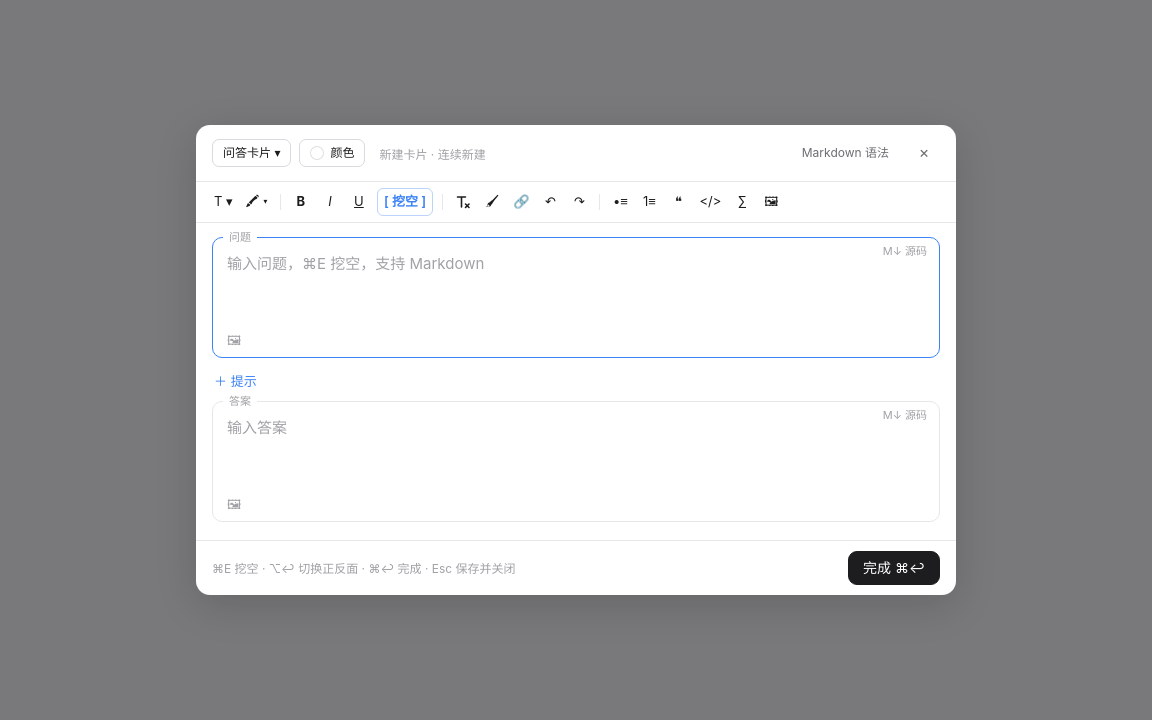
Test case: 卡片编辑器 › 连续新建：填完点完成后弹窗不关，继续下一张
Expected: the text "问题" is shown, top-left (223, 229), bottom-right (257, 246)
Step 1. Click the 1st button "M↓ 源码" → (905, 252), box top-left (877, 242), bottom-right (933, 261)
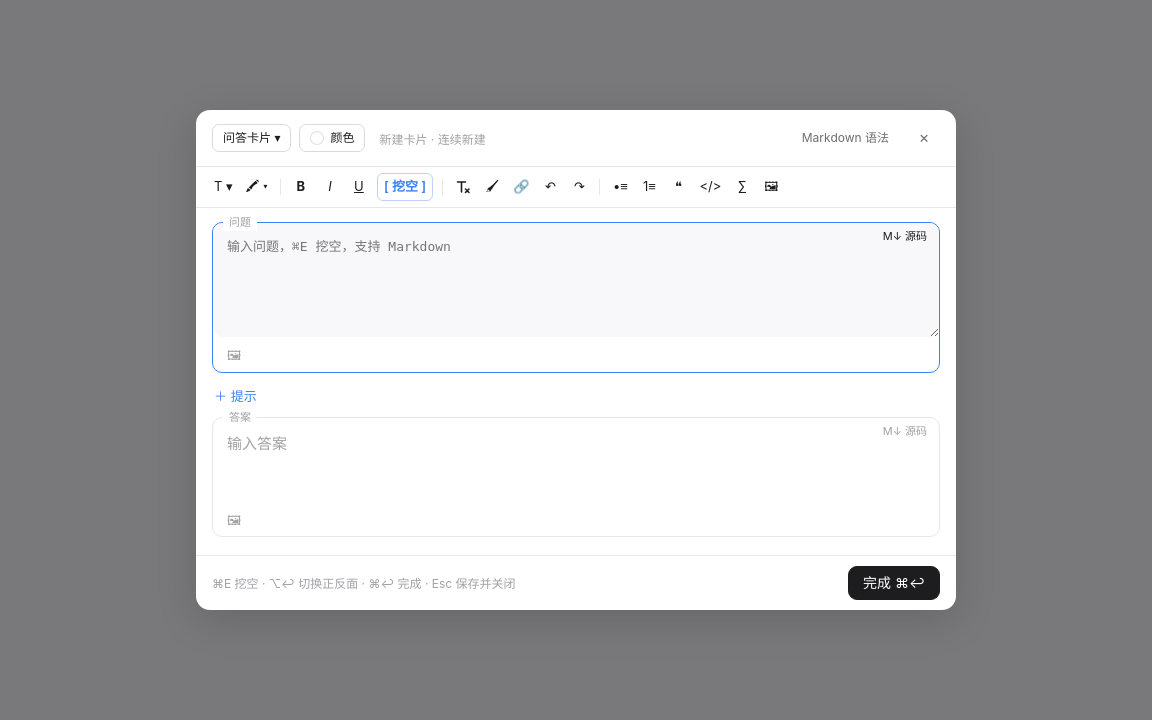
Expected: the text box with class "src" is shown
Step 2. Type "Q1" into the text box with class "src" → (576, 280), box top-left (213, 223), bottom-right (939, 337)
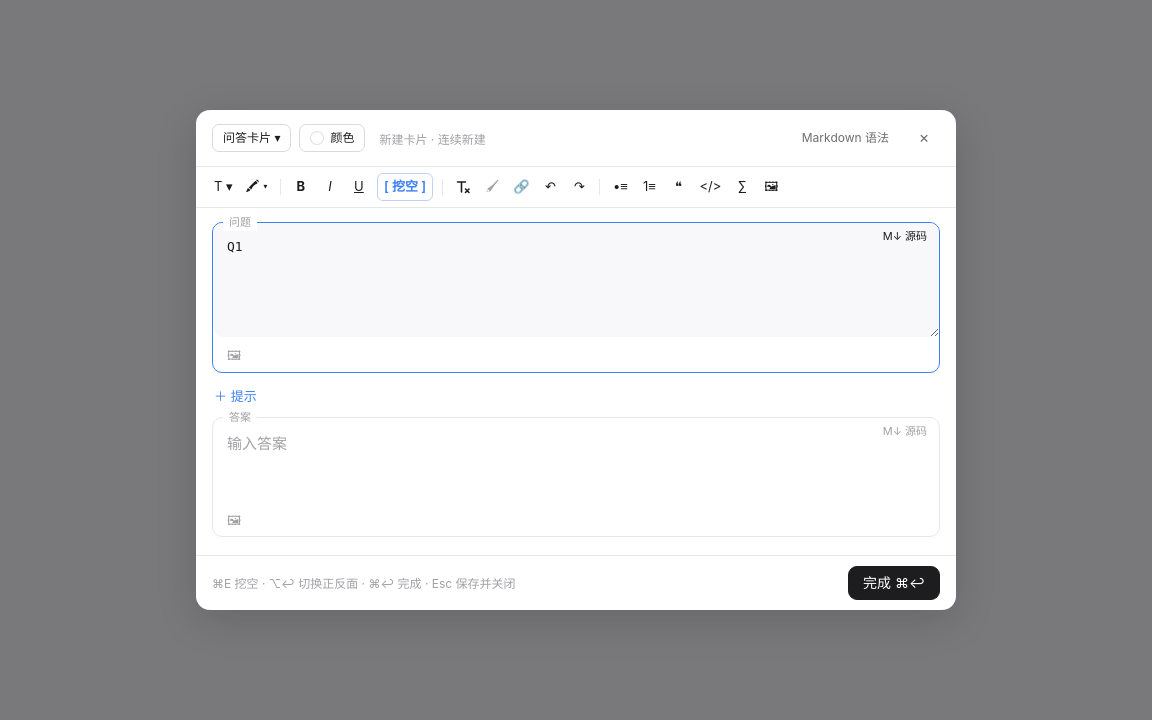
Step 3. Click the button "完成 ⌘↩" → (894, 583), box top-left (848, 566), bottom-right (940, 600)
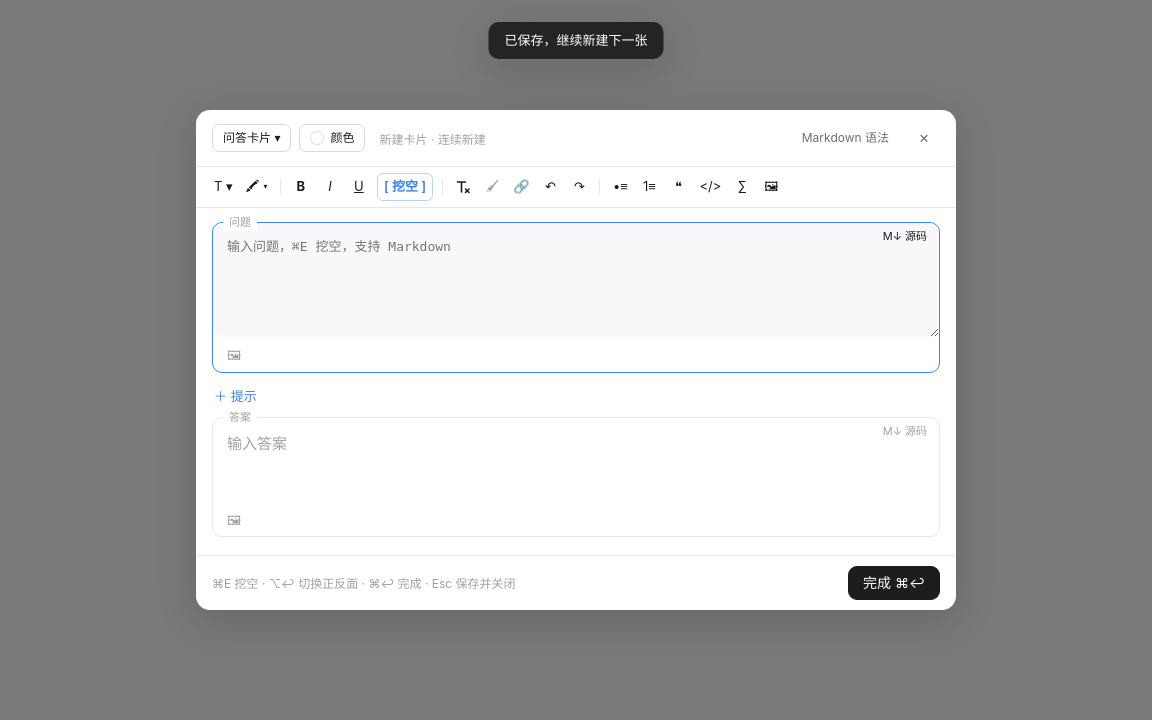
Expected: the text "已保存，继续新建下一张" is shown, top-left (504, 30), bottom-right (648, 51)
